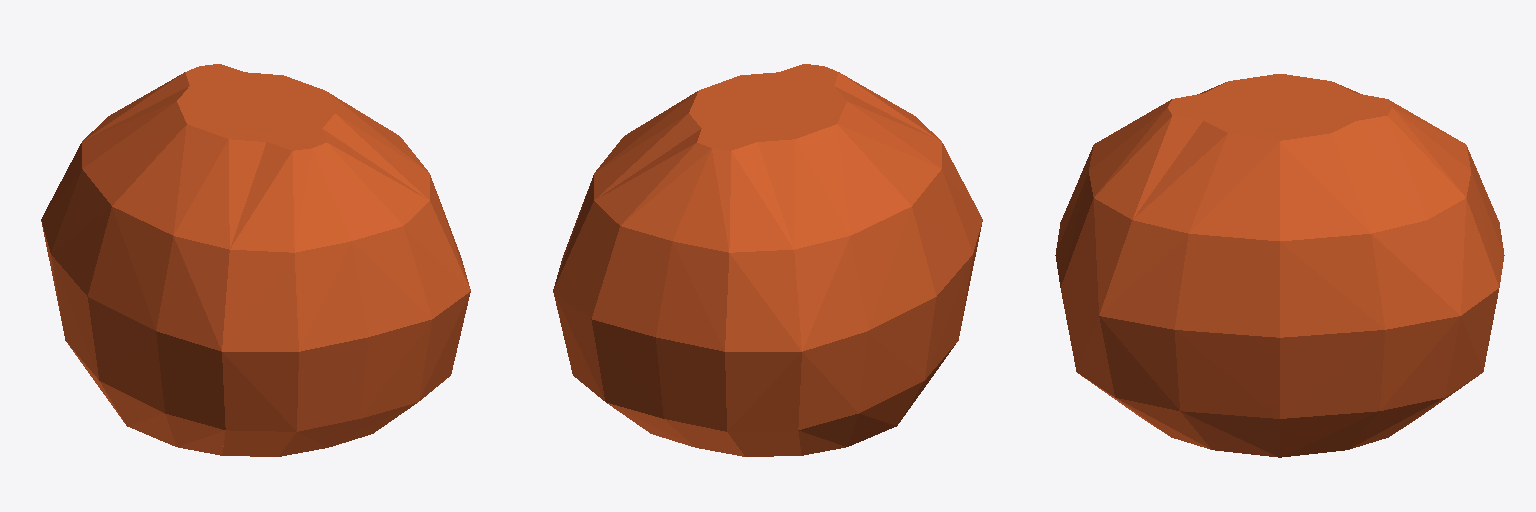
The picture shows the model from 3 angles: view 1: azimuth 30°, elevation 25°; view 2: azimuth 150°, elevation 25°; view 3: azimuth 270°, elevation 25°; orthographic projection.
Parts seen in each view (by area): view 1: calabazoCalabaza; view 2: calabazoCalabaza; view 3: calabazoCalabaza.
Boxes of the visible parts, <box> form: calabazoCalabaza: <box>41,64,470,456</box>; calabazoCalabaza: <box>553,64,982,456</box>; calabazoCalabaza: <box>1055,74,1504,457</box>.
Size of the model in its own units: 2.06 by 1.74 by 2.38.
Materials: 1 (1 with a texture image).